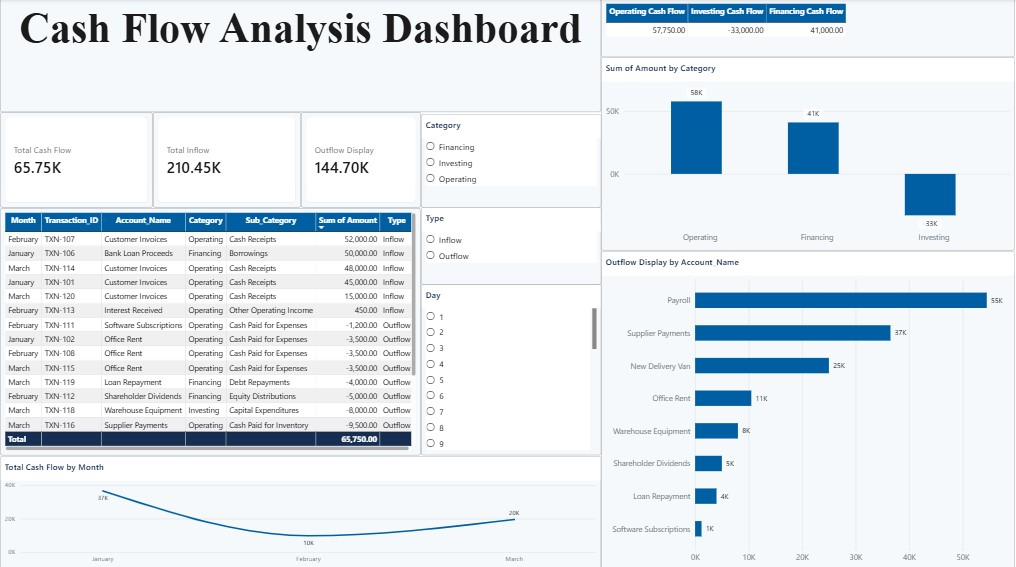

Layout of this report page (visuals, bound fields, positions):
{"tool":"powerbi","page":{"name":"Page 1","canvas":[1920,1080],"ordinal":0},"visuals":[{"type":"cardVisual","fields":{"Data":["Cashflow dataset.Total Cash Flow"]},"box":[0,214,289.2,181.2],"z":0},{"type":"cardVisual","fields":{"Data":["Cashflow dataset.Total Inflow"]},"box":[289.2,214,279.5,181.2],"z":1000},{"type":"cardVisual","fields":{"Data":["Cashflow dataset.Outflow Display"]},"box":[568.7,214,227.5,181.2],"z":2000},{"type":"lineClusteredColumnComboChart","fields":{"Category":["Cashflow dataset.Category"],"Y":["Sum(Cashflow dataset.Amount)"]},"box":[1137.3,109.9,782.7,366.3],"z":3000},{"type":"lineChart","fields":{"Y":["Cashflow dataset.Total Cash Flow"],"Category":["Cashflow dataset.Date.Variation.Date Hierarchy.Month"]},"box":[0,863.6,1137.3,215.9],"z":4000},{"type":"barChart","fields":{"Category":["Cashflow dataset.Account_Name"],"Y":["Cashflow dataset.Outflow Display"]},"box":[1137.3,476.1,782.7,603.4],"z":5000},{"type":"tableEx","fields":{"Values":["Cashflow dataset.Operating Cash Flow","Cashflow dataset.Investing Cash Flow","Cashflow dataset.Financing Cash Flow"]},"box":[1137.3,0,782.7,109.9],"z":6000},{"type":"tableEx","fields":{"Values":["Cashflow dataset.Date.Variation.Date Hierarchy.Month","Cashflow dataset.Transaction_ID","Cashflow dataset.Account_Name","Cashflow dataset.Category","Cashflow dataset.Sub_Category","Sum(Cashflow dataset.Amount)","Cashflow dataset.Type"]},"box":[0,395.2,796.1,468.4],"z":7000},{"type":"listSlicer","fields":{"Values":["Cashflow dataset.Date.Variation.Date Hierarchy.Day"]},"box":[796.1,539.8,341.2,323.9],"z":8000},{"type":"listSlicer","fields":{"Values":["Cashflow dataset.Category"]},"box":[796.1,217.8,341.2,177.3],"z":9000},{"type":"listSlicer","fields":{"Values":["Cashflow dataset.Type"]},"box":[796.1,393.3,341.2,146.5],"z":10000},{"type":"textbox","box":[0,0,1137.3,214],"z":11000}]}

Visuals, with their boxes in screenshot pixels (x1, y1, x2, y2), scaled from the page's 1920x1080 canvas onto the 1016x567 screenshot:
cardVisual - Cashflow dataset.Total Cash Flow: 0, 112, 153, 207
cardVisual - Cashflow dataset.Total Inflow: 153, 112, 301, 207
cardVisual - Cashflow dataset.Outflow Display: 301, 112, 421, 207
lineClusteredColumnComboChart - Cashflow dataset.Category x Sum(Cashflow dataset.Amount): 602, 58, 1015, 250
lineChart - Cashflow dataset.Total Cash Flow x Cashflow dataset.Date.Variation.Date Hierarchy.Month: 0, 453, 602, 566
barChart - Cashflow dataset.Account_Name x Cashflow dataset.Outflow Display: 602, 250, 1015, 566
tableEx - Cashflow dataset.Operating Cash Flow x Cashflow dataset.Investing Cash Flow: 602, 0, 1015, 58
tableEx - Cashflow dataset.Date.Variation.Date Hierarchy.Month x Cashflow dataset.Transaction_ID: 0, 207, 421, 453
listSlicer - Cashflow dataset.Date.Variation.Date Hierarchy.Day: 421, 283, 602, 453
listSlicer - Cashflow dataset.Category: 421, 114, 602, 207
listSlicer - Cashflow dataset.Type: 421, 206, 602, 283
textbox: 0, 0, 602, 112
